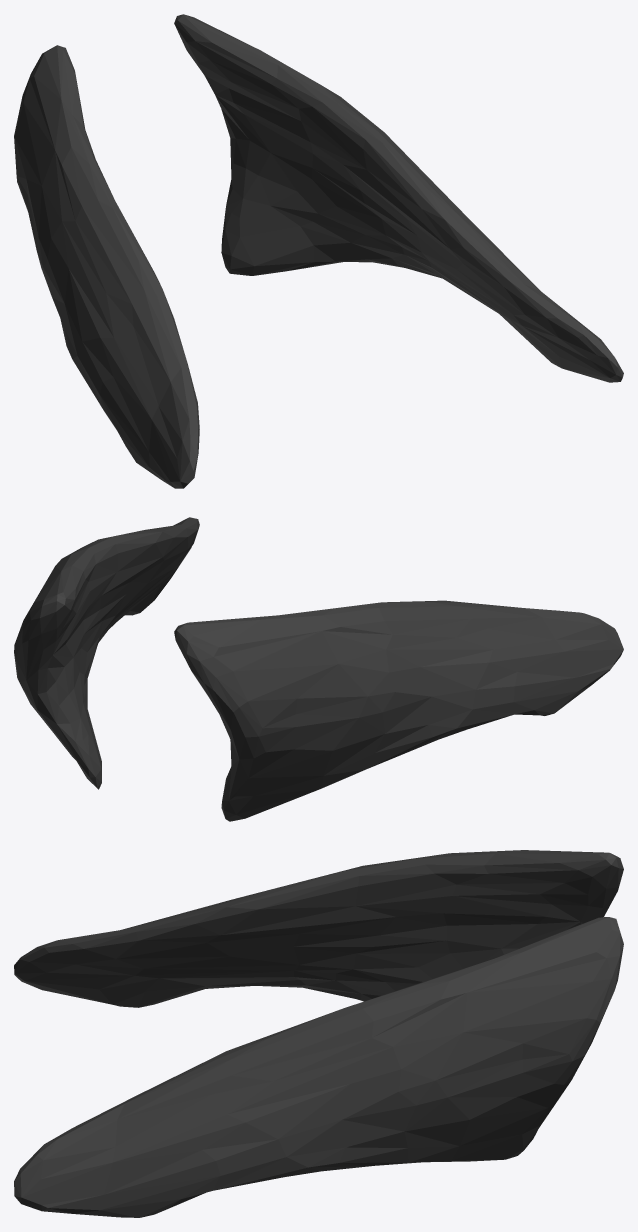
Rendered from m_levator_ani.glb.
3 renders of one model, top to bottom at view 1: azimuth 30°, elevation 25°; view 2: azimuth 150°, elevation 25°; view 3: azimuth 270°, elevation 25°, orthographic. The views are drawn at different scales.
Visible parts, largest first — view 1: m_levator_ani; view 2: m_levator_ani; view 3: m_levator_ani.
Boxes of the visible parts, <box> form: m_levator_ani: <box>14,14,623,488</box>; m_levator_ani: <box>14,517,623,821</box>; m_levator_ani: <box>14,850,623,1217</box>.
Bounding box in the file's own units: 0.00216 × 0.00106 × 0.00247.
Materials: 1 (1 with a texture image).
